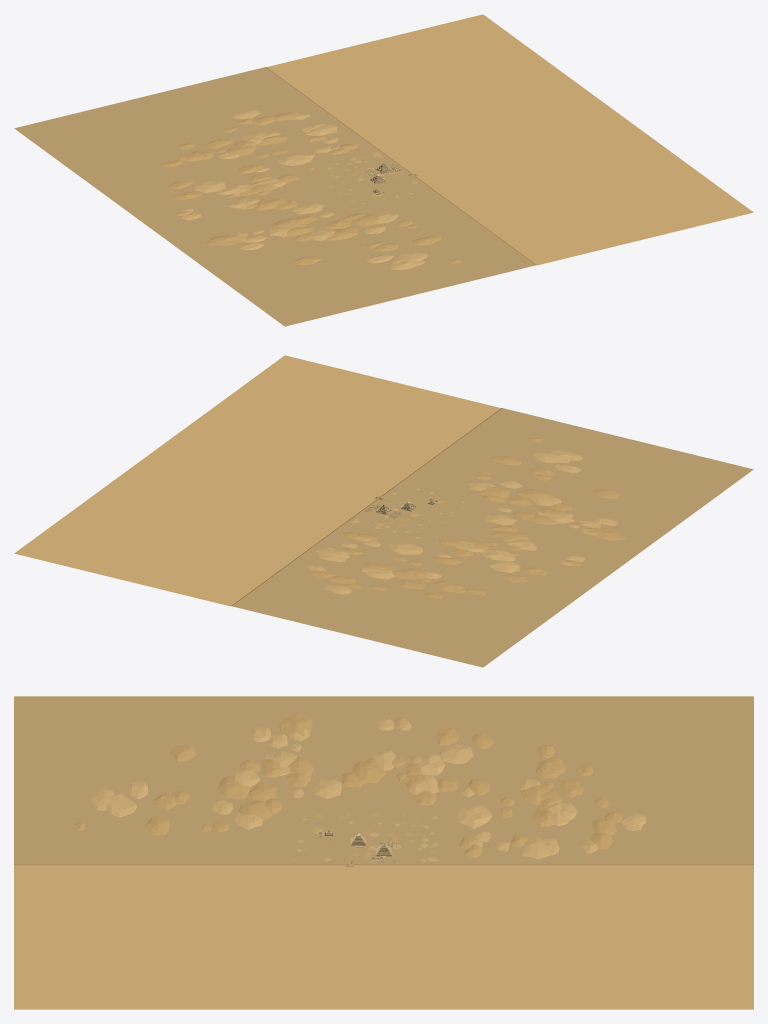
File: planalto-gize.glb
3 views of the same model, one above another, from view 1: azimuth 30°, elevation 25°; view 2: azimuth 150°, elevation 25°; view 3: azimuth 270°, elevation 25° (orthographic). The views are drawn at different scales.
Parts seen in each view (by area): view 1: Chao, Dunas; view 2: Chao, Dunas; view 3: Chao, Dunas.
Boxes of the visible parts, x1,y1,x2,y2 form: Chao: [14, 14, 753, 326]; Dunas: [161, 110, 462, 269]; Chao: [14, 355, 753, 667]; Dunas: [307, 437, 625, 598]; Chao: [14, 696, 753, 1009]; Dunas: [74, 713, 646, 859].
Bounding box in the file's own units: 10000 × 427 × 10000.
